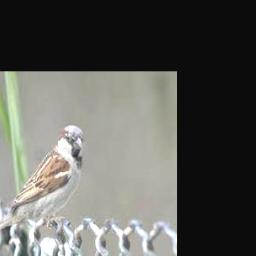Sparrow: (0, 124, 85, 248)
